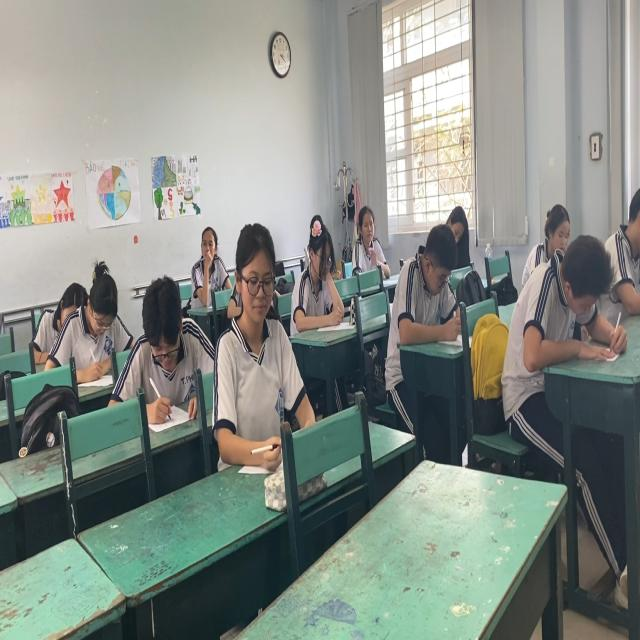not_cheating: (216, 221, 298, 421), (124, 271, 207, 418), (536, 231, 616, 373), (396, 230, 483, 349), (52, 257, 132, 362), (287, 212, 346, 322), (185, 218, 233, 294), (348, 190, 387, 280), (530, 197, 578, 254), (439, 207, 468, 244)
